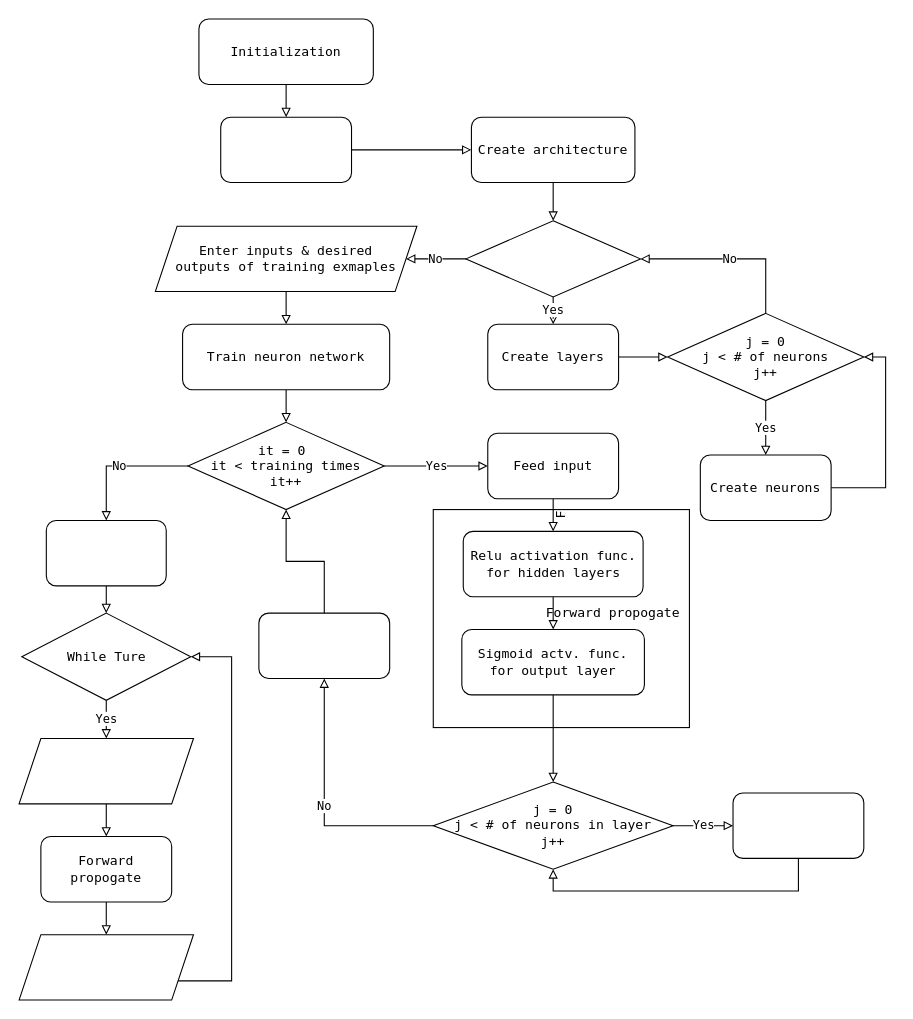
The diagram is 913 pixels wide and 1019 high, and some of its shapes have lost their labels. The shapes that lost their labels are listed below. From the top down, each one's centre as x and y in pixels, then its label:
At [286,149]: "Allocate memory".
At [552,258]: "i = 0 i < # of layers i++".
At [105,552]: "Test NN".
At [324,645]: "Back propogate".
At [105,770]: "Enter test inputs".
At [798,825]: "Calculate MAE & MSE".
At [105,967]: "Print out result".
